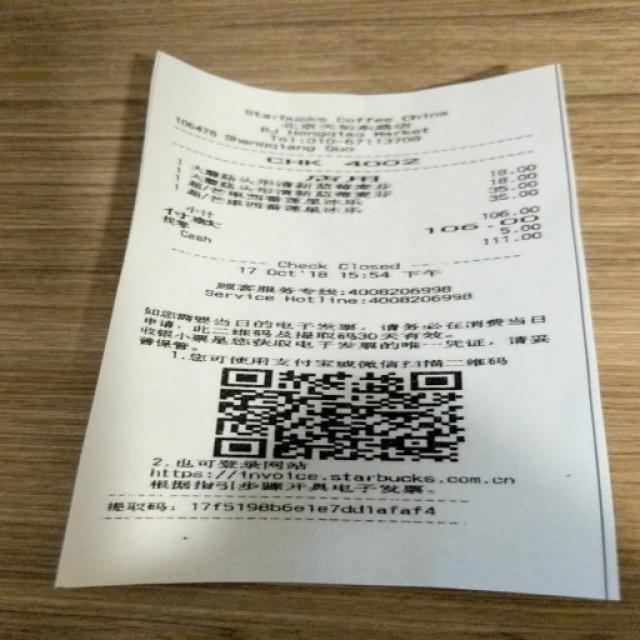document: (56, 52, 618, 598)
